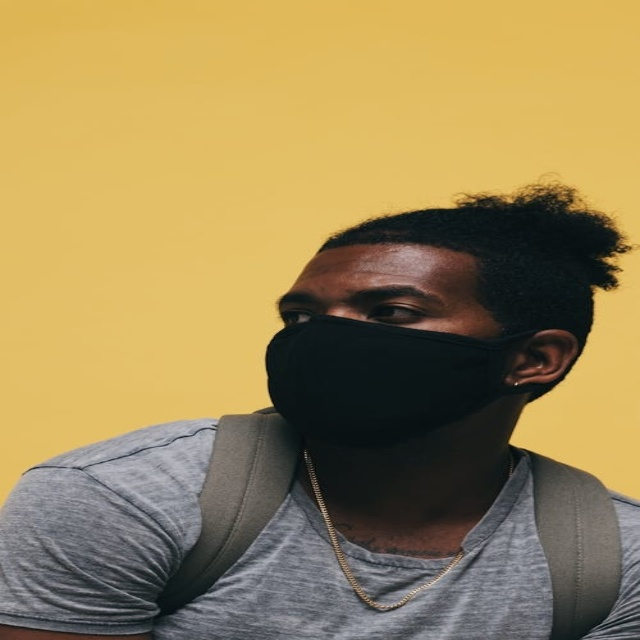Mascara: (264, 314, 545, 447)
Sin_gafas: (262, 284, 449, 325)
